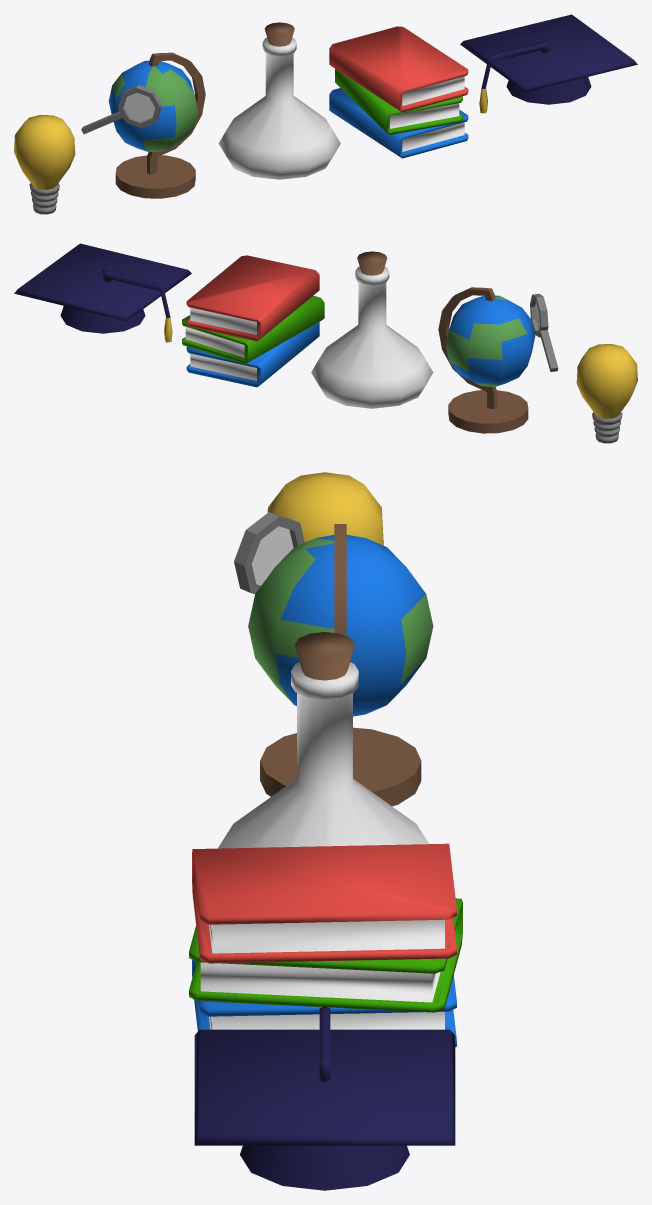
File: items.fbx
The picture shows the model from 3 angles, top to bottom: view 1: azimuth 30°, elevation 25°; view 2: azimuth 150°, elevation 25°; view 3: azimuth 270°, elevation 25°; orthographic projection. The views are drawn at different scales.
Visible parts, largest first — view 1: literature-review, pw2, data-report, scholarly, initial; view 2: literature-review, pw2, data-report, scholarly, initial; view 3: literature-review, scholarly, pw2, data-report, initial.
Boxes of the visible parts, left/top/right/bottom form: literature-review: left=329, top=26, right=468, bottom=158; pw2: left=81, top=52, right=205, bottom=198; data-report: left=218, top=22, right=340, bottom=179; scholarly: left=460, top=14, right=637, bottom=113; initial: left=14, top=115, right=75, bottom=214; literature-review: left=182, top=255, right=324, bottom=387; pw2: left=438, top=287, right=558, bottom=433; data-report: left=311, top=251, right=433, bottom=408; scholarly: left=14, top=243, right=191, bottom=342; initial: left=576, top=344, right=637, bottom=443; literature-review: left=189, top=843, right=462, bottom=1046; scholarly: left=194, top=1006, right=455, bottom=1190; pw2: left=234, top=512, right=433, bottom=806; data-report: left=218, top=632, right=428, bottom=848; initial: left=267, top=472, right=383, bottom=545.
Size of the model in its own units: 12.82 by 2.79 by 2.59.
